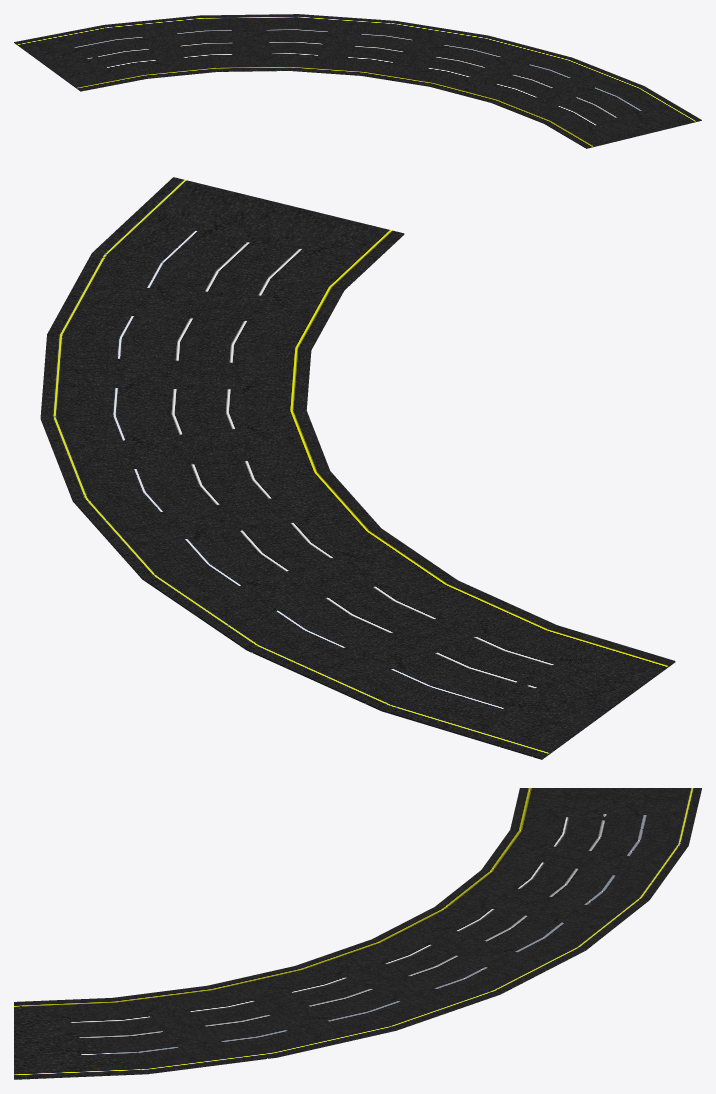
The model's file is curved_4lane.dae.
3 views of the same model, one above another, from view 1: azimuth 30°, elevation 25°; view 2: azimuth 150°, elevation 25°; view 3: azimuth 270°, elevation 25° (orthographic). The views are drawn at different scales.
Parts seen in each view (by area): view 1: Cylinder; view 2: Cylinder; view 3: Cylinder.
Boxes of the visible parts, x1,y1,x2,y2 form: Cylinder: (14,14,701,148); Cylinder: (40,177,675,759); Cylinder: (14,788,701,1079).
Size of the model in its own units: 68 by 68 by 0.1.
1 material, 1 textured.
